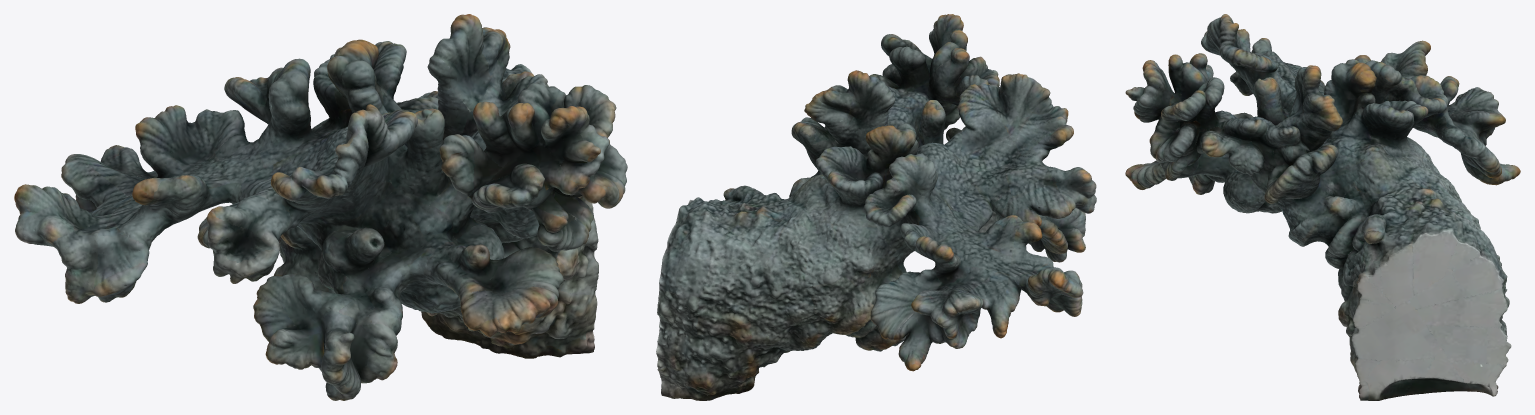
The model's file is ukwial-mobile.glb.
3 views of the same model, side by side, from view 1: azimuth 30°, elevation 25°; view 2: azimuth 150°, elevation 25°; view 3: azimuth 270°, elevation 25° (orthographic). The views are drawn at different scales.
Bounding box in the file's own units: 1.9 × 1.33 × 1.71.
1 material, 1 textured.
